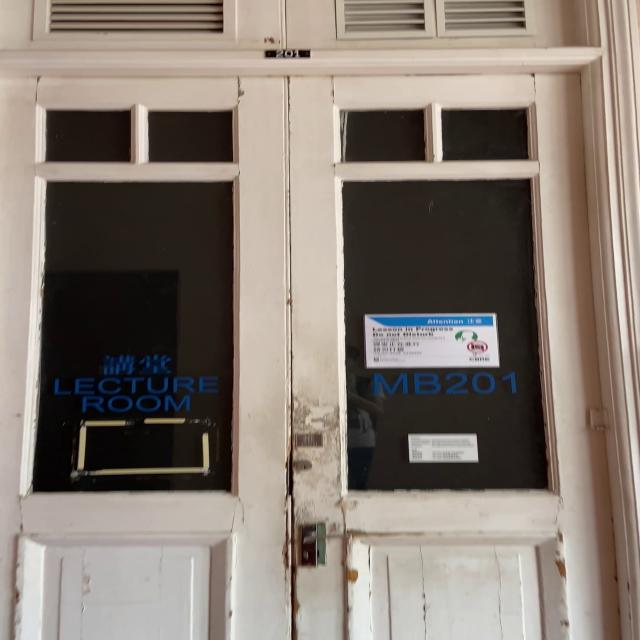room201: (256, 45, 318, 64)
room201Window: (362, 370, 527, 400)
